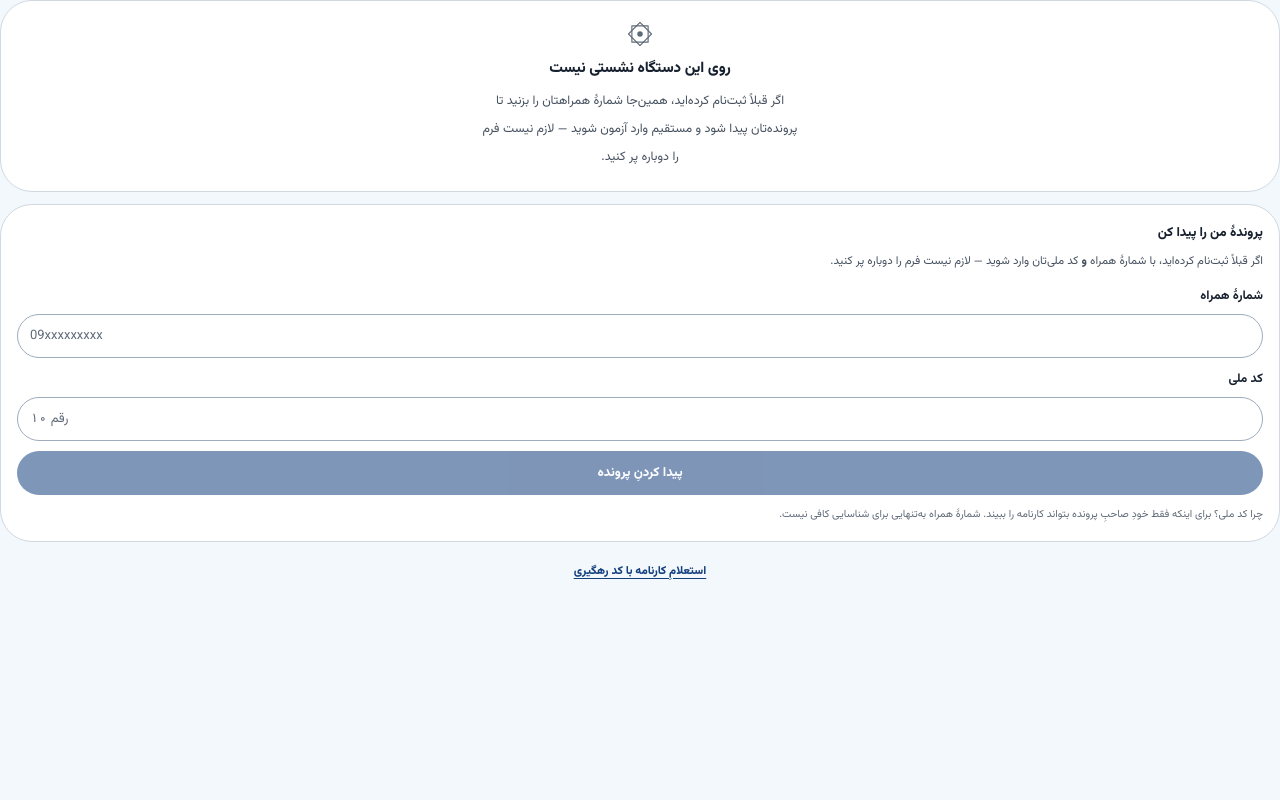
Test: AccountView (/login) › آزمون‌داده: به کارنامه اشاره می‌کند، نه به آزمون
Type "09121234567" into the field with placeholder "09xxxxxxxxx" at (640, 336), box [17,314,1263,358]
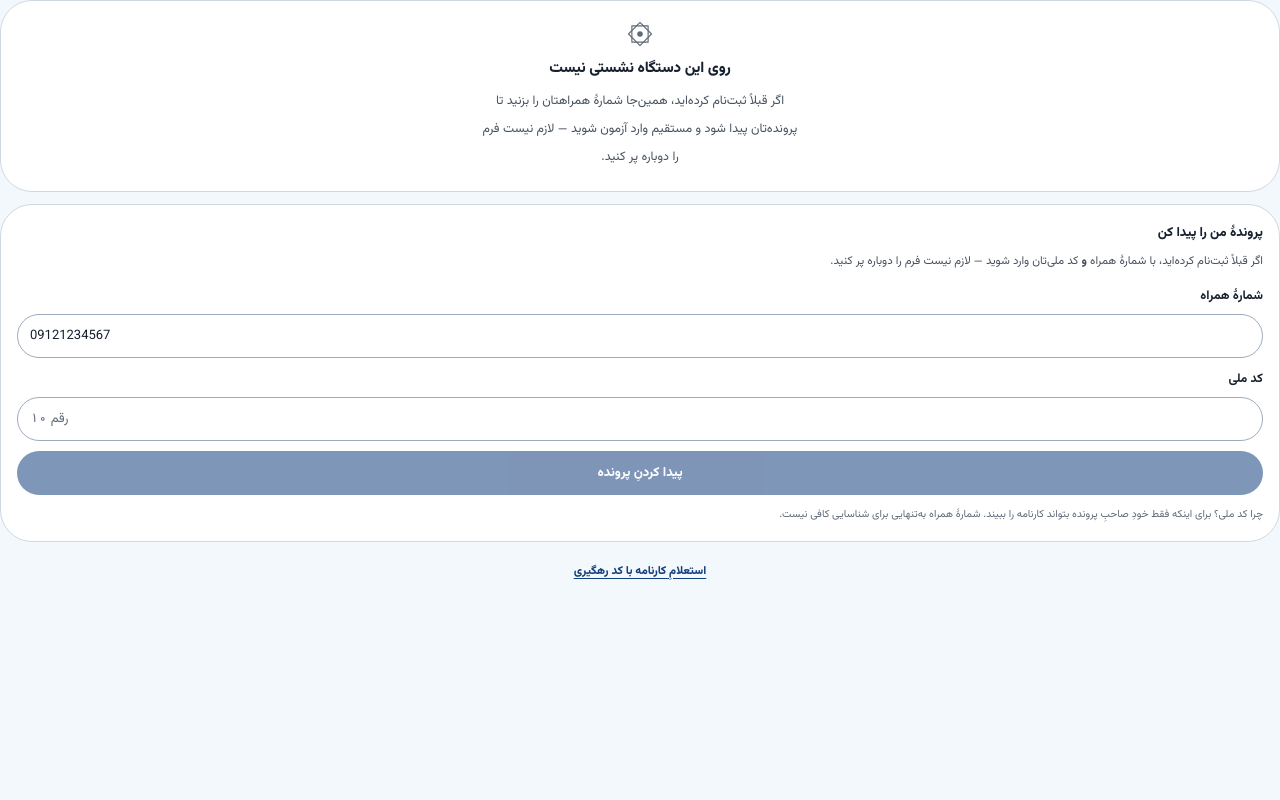
Type "0013542419" into the field with placeholder "۱۰ رقم" at (640, 419), box [17,397,1263,441]
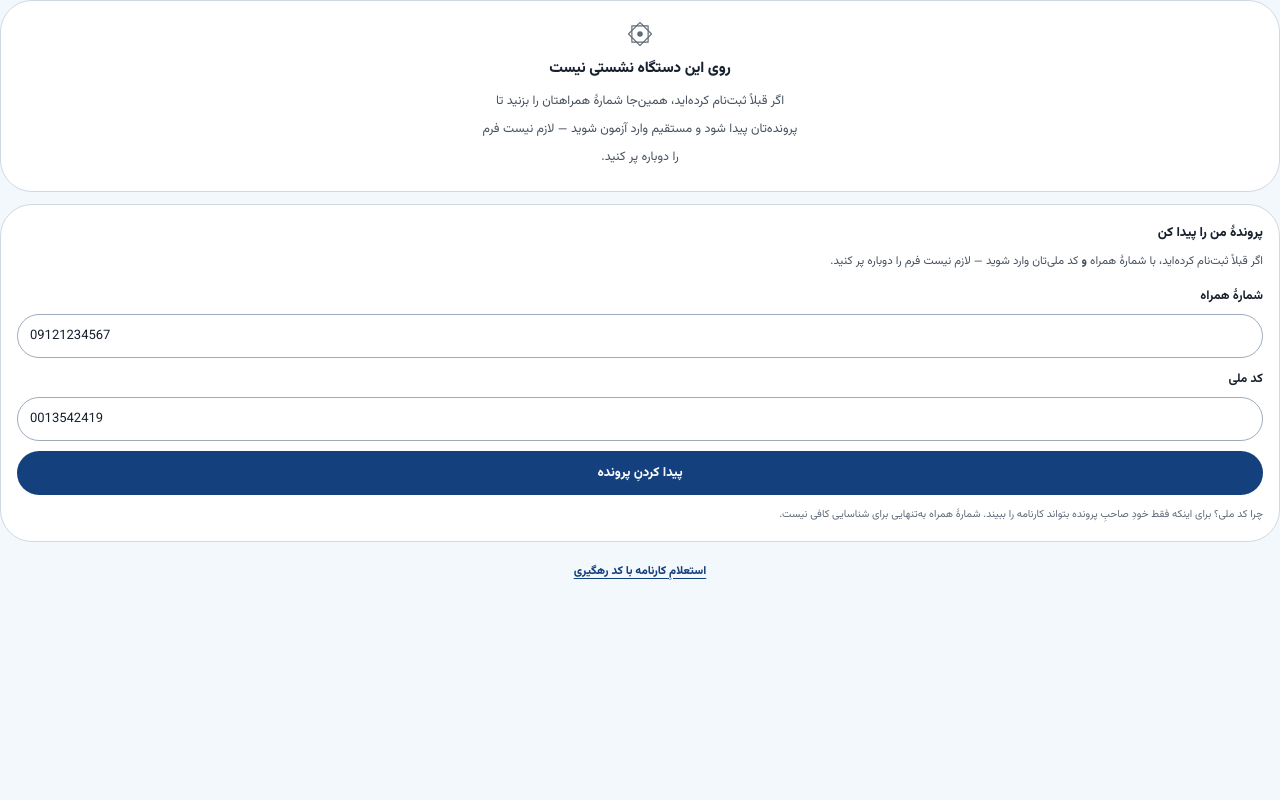
Click the button "پیدا کردنِ پرونده" at (640, 473), box [17,451,1263,495]
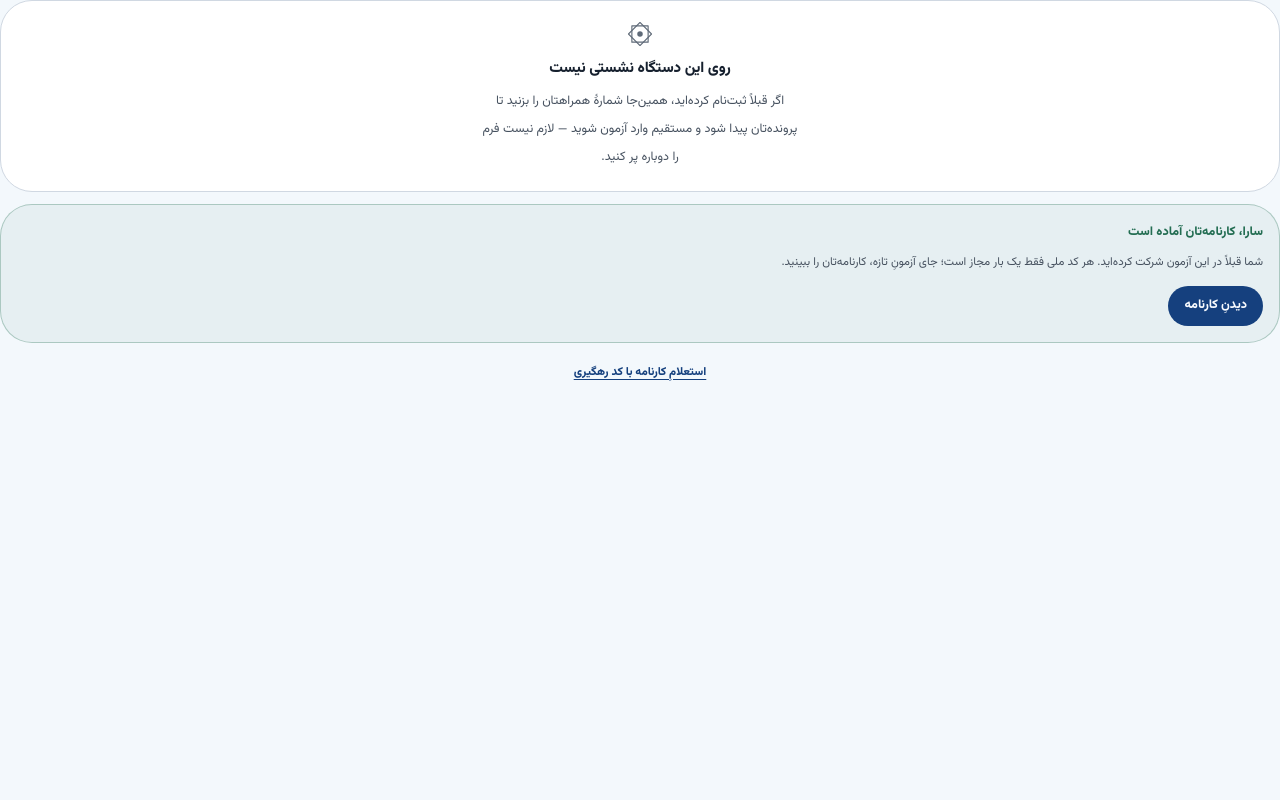
Expected: the link "دیدنِ کارنامه" is shown, [1168,286,1263,326]
